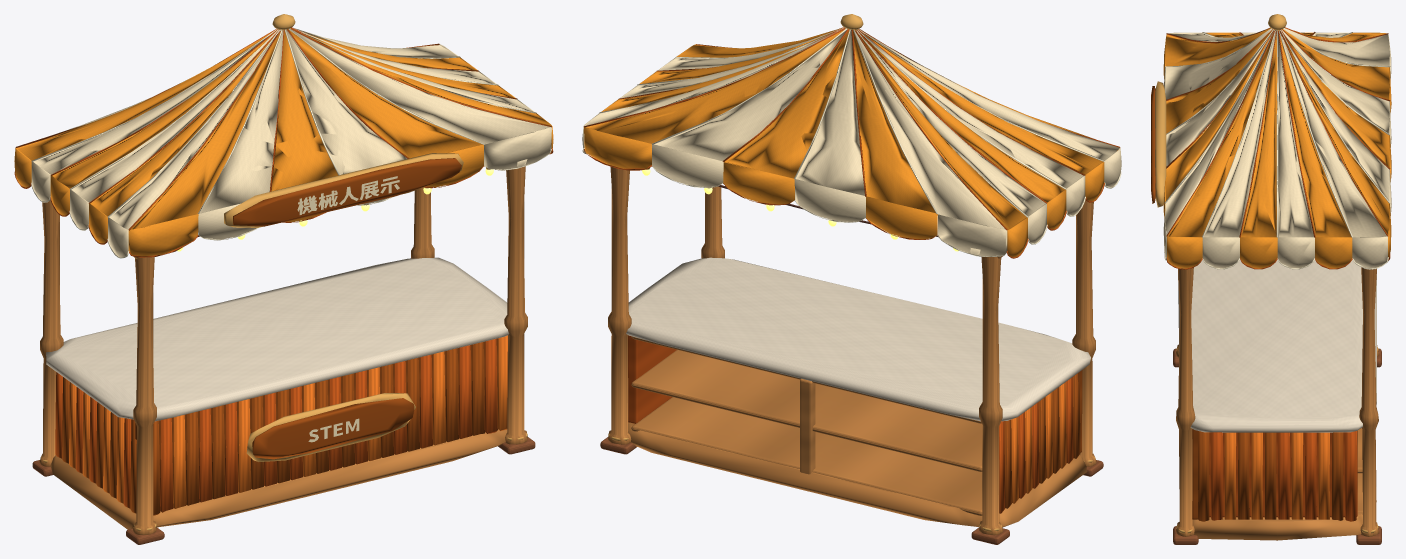
Rendered from robotics-booth.glb.
The picture shows the model from 3 angles, left to right: view 1: azimuth 30°, elevation 25°; view 2: azimuth 150°, elevation 25°; view 3: azimuth 270°, elevation 25°; orthographic projection.
Parts seen in each view (by area): view 1: Solid molded and beveled worktop, Biaxially tensioned canvas roof gore.001, Biaxially tensioned canvas roof gore, Chamfered cabinet plinth, Cabinet front divider, Cabinet side inset, Floating enamel lettering inset, V-jointed rounded front stave.002, Brass foot band, Rolled scallop hem with stitched binding, Rolled scallop hem with stitched binding.001, Counter plaque letters (+1 smaller); view 2: Chamfered cabinet plinth, Solid molded and beveled worktop, Biaxially tensioned canvas roof gore.001, Biaxially tensioned canvas roof gore, Cabinet side inset, Rolled scallop hem with stitched binding, Rolled scallop hem with stitched binding.001, Cabinet front divider, V-jointed rounded front stave.002, Rounded foot plate; view 3: Solid molded and beveled worktop, Biaxially tensioned canvas roof gore, Biaxially tensioned canvas roof gore.001, Chamfered cabinet plinth, Cabinet side inset, Cabinet front divider, V-jointed rounded front stave.002, Rolled scallop hem with stitched binding, Rolled scallop hem with stitched binding.001, Brass foot band, Rounded foot plate, Floating enamel lettering inset.
Boxes of the visible parts, x1,y1,x2,y2 form: Solid molded and beveled worktop: [46, 257, 509, 421]; Biaxially tensioned canvas roof gore.001: [31, 28, 551, 257]; Biaxially tensioned canvas roof gore: [14, 28, 553, 256]; Chamfered cabinet plinth: [39, 166, 527, 534]; Cabinet front divider: [62, 338, 498, 515]; Cabinet side inset: [55, 339, 497, 512]; Floating enamel lettering inset: [233, 158, 461, 459]; V-jointed rounded front stave.002: [69, 335, 507, 508]; Brass foot band: [40, 14, 527, 531]; Rolled scallop hem with stitched binding: [14, 27, 553, 257]; Rolled scallop hem with stitched binding.001: [31, 28, 552, 258]; Counter plaque letters: [297, 176, 399, 442]; Chamfered cabinet plinth: [608, 166, 1096, 535]; Solid molded and beveled worktop: [626, 257, 1090, 421]; Biaxially tensioned canvas roof gore.001: [582, 28, 1121, 256]; Biaxially tensioned canvas roof gore: [584, 28, 1117, 257]; Cabinet side inset: [628, 335, 1073, 513]; Rolled scallop hem with stitched binding: [584, 27, 1120, 258]; Rolled scallop hem with stitched binding.001: [582, 27, 1121, 256]; Cabinet front divider: [1004, 370, 1082, 508]; V-jointed rounded front stave.002: [1011, 382, 1066, 503]; Rounded foot plate: [600, 437, 1103, 544]; Solid molded and beveled worktop: [1178, 259, 1376, 432]; Biaxially tensioned canvas roof gore: [1163, 28, 1391, 268]; Biaxially tensioned canvas roof gore.001: [1163, 28, 1391, 268]; Chamfered cabinet plinth: [1175, 119, 1379, 540]; Cabinet side inset: [1209, 430, 1357, 521]; Cabinet front divider: [1192, 429, 1343, 521]; V-jointed rounded front stave.002: [1224, 432, 1329, 519]; Rolled scallop hem with stitched binding: [1166, 27, 1390, 269]; Rolled scallop hem with stitched binding.001: [1164, 28, 1390, 269]; Brass foot band: [1155, 14, 1378, 533]; Rounded foot plate: [1173, 348, 1381, 544]; Floating enamel lettering inset: [1151, 86, 1155, 203].
Size of the model in its own units: 3.2 by 3.12 by 1.57.
Materials: 15 (8 with a texture image).
